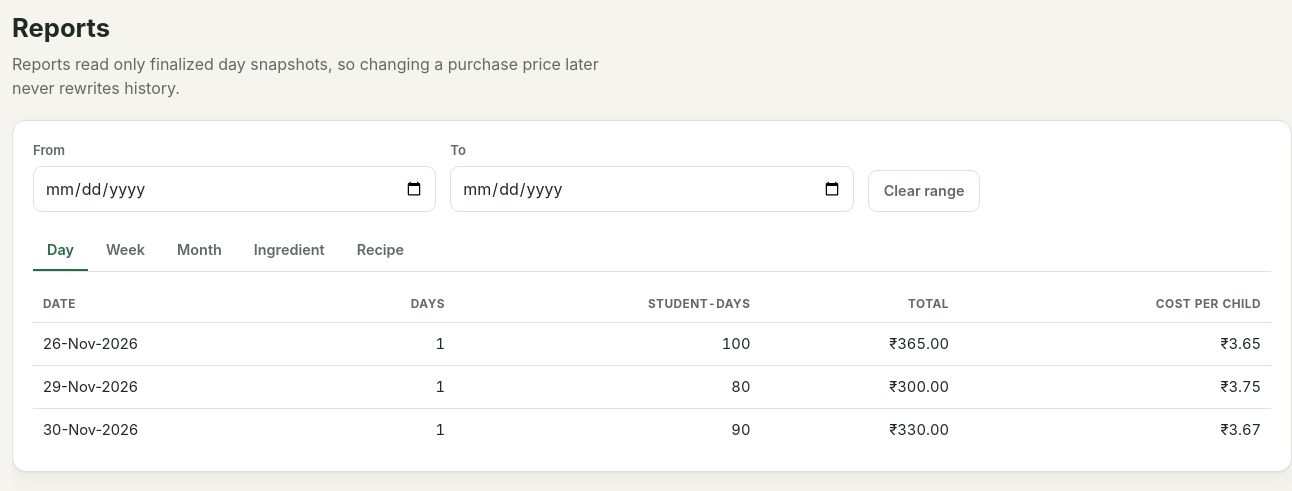
it: Reports screen › shows the month total formatted in INR
Click the tab "Month".
click(200, 250)  # box [163,230,236,271]
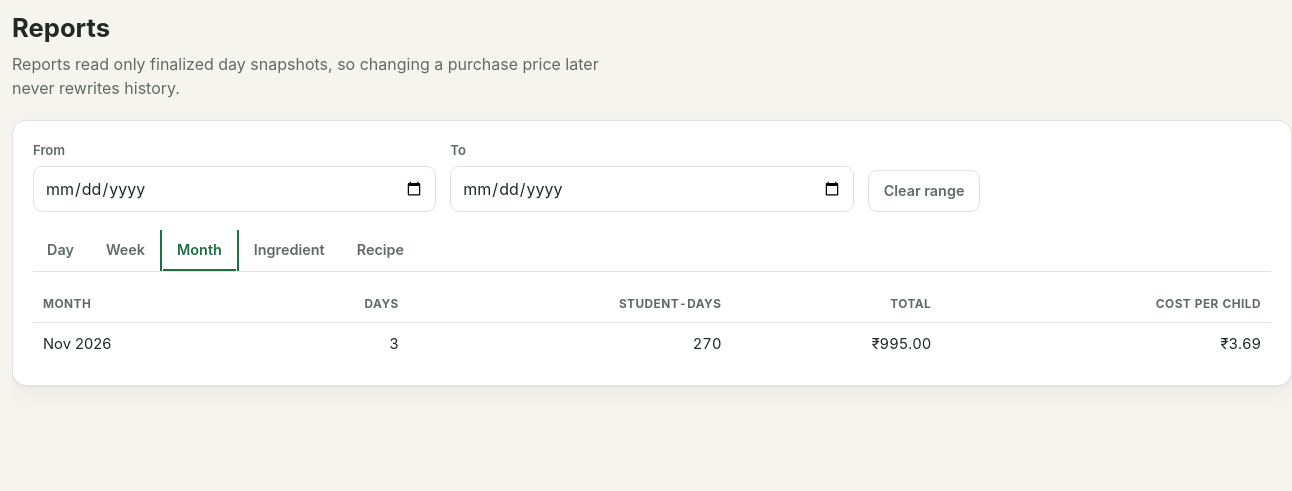
Result: the text "₹995.00" is shown at [732,322,941,365]
Result: the text "Nov 2026" is shown at [33,322,266,365]
Result: the text "₹3.69" is shown at [941,322,1271,365]
